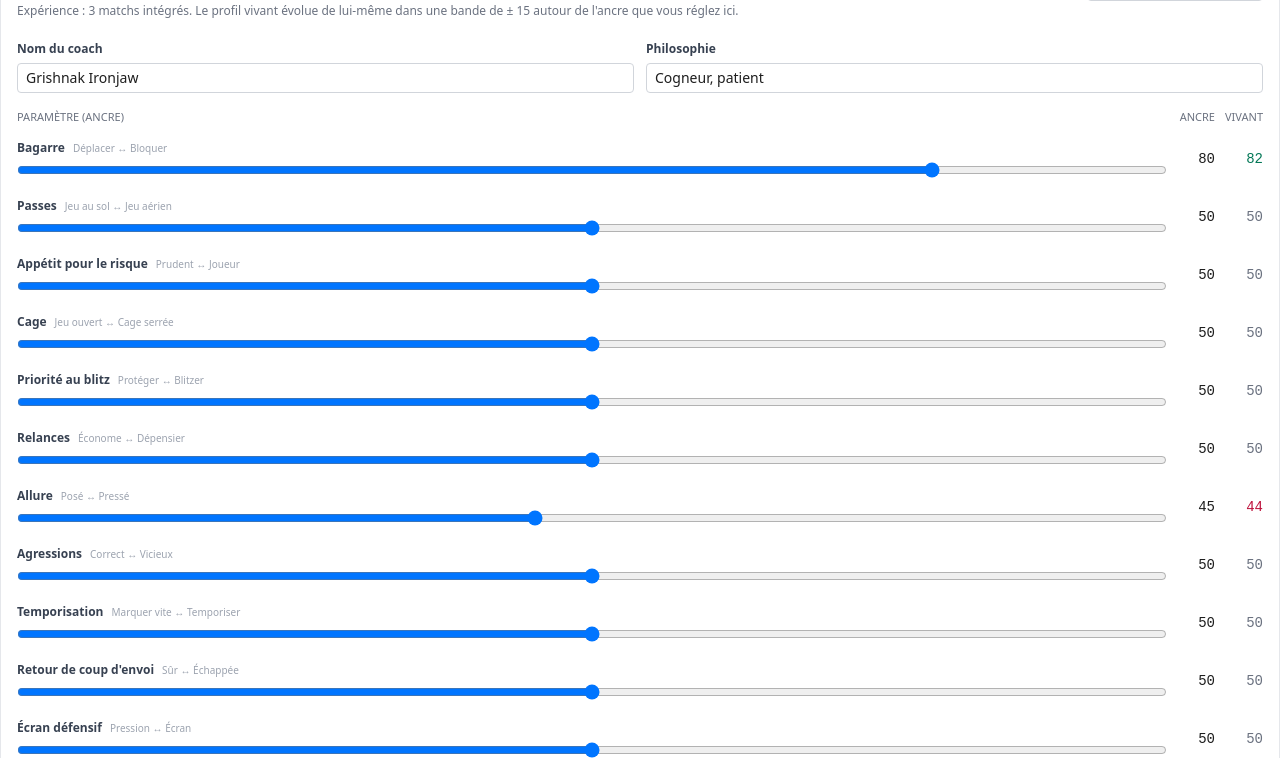
Test case: CoachPanel › n'envoie que les paramètres d'ancre modifiés
Set the slider with test id "coach-anchor-pace" to "70". click: (819, 518)
box: [17,510,1167,526]
(page scrolled)
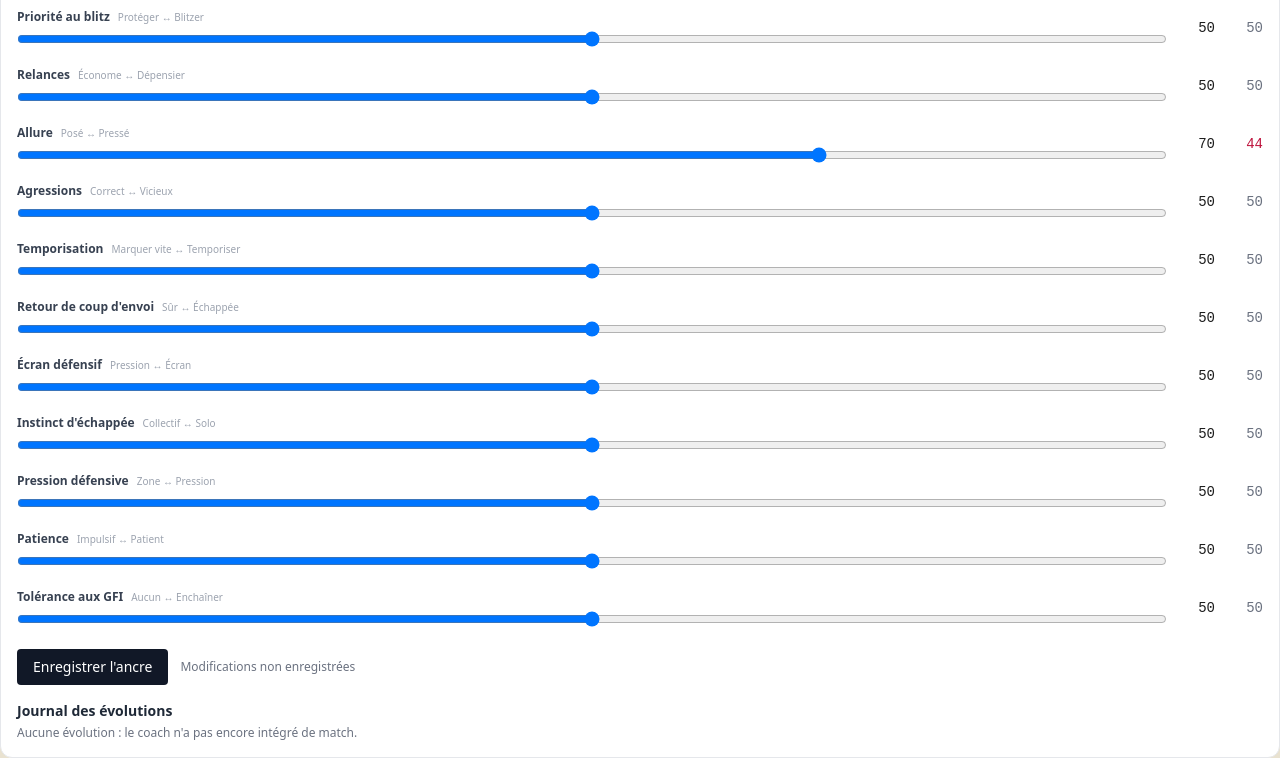
expect the text with test id "coach-dirty" shows "non enregistrées": met, box [180,658,355,674]
Click the button with test id "coach-save". click: (93, 666)
box: [17,648,168,684]
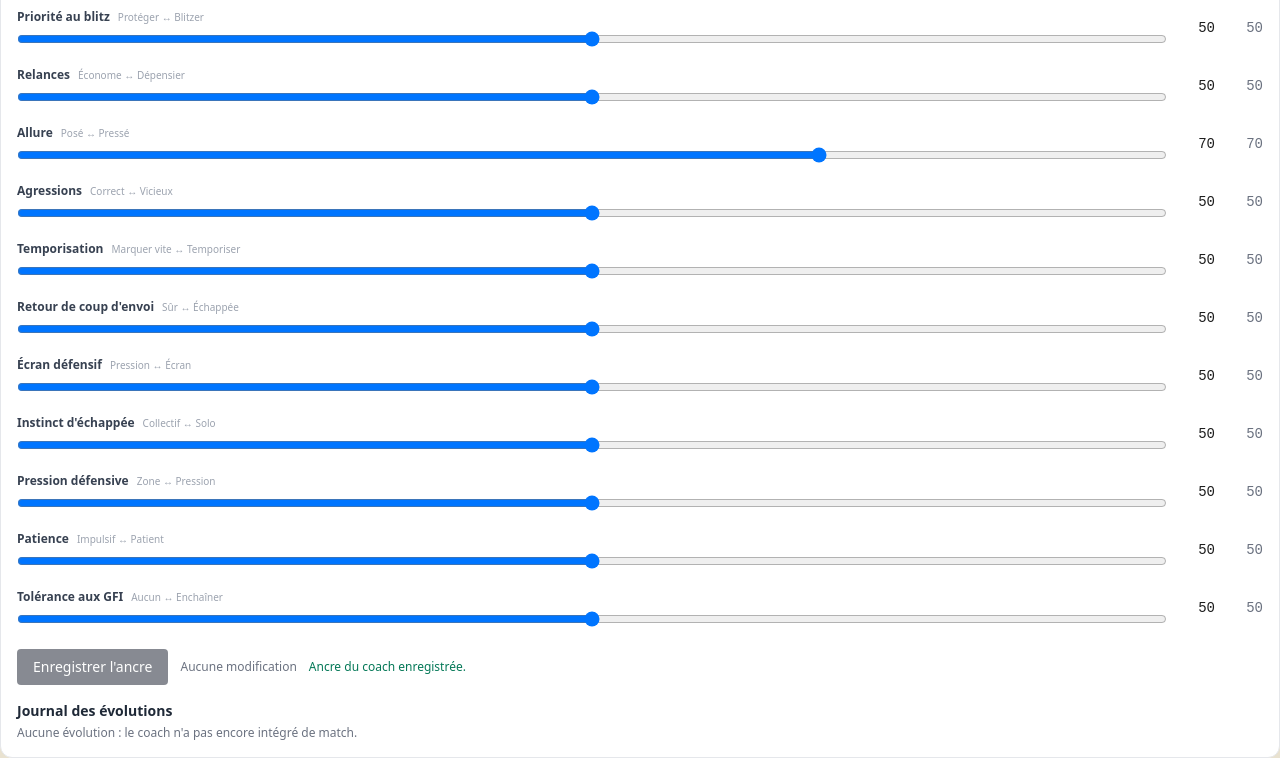
expect the text with test id "coach-living-pace" reads "70": met, box [1246,136,1263,152]
